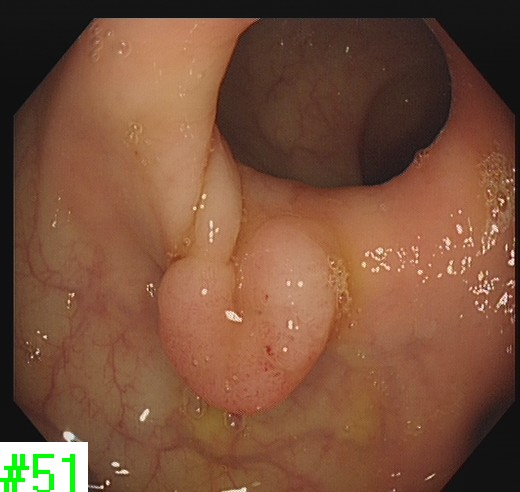adenoma: (154, 216, 339, 420)
